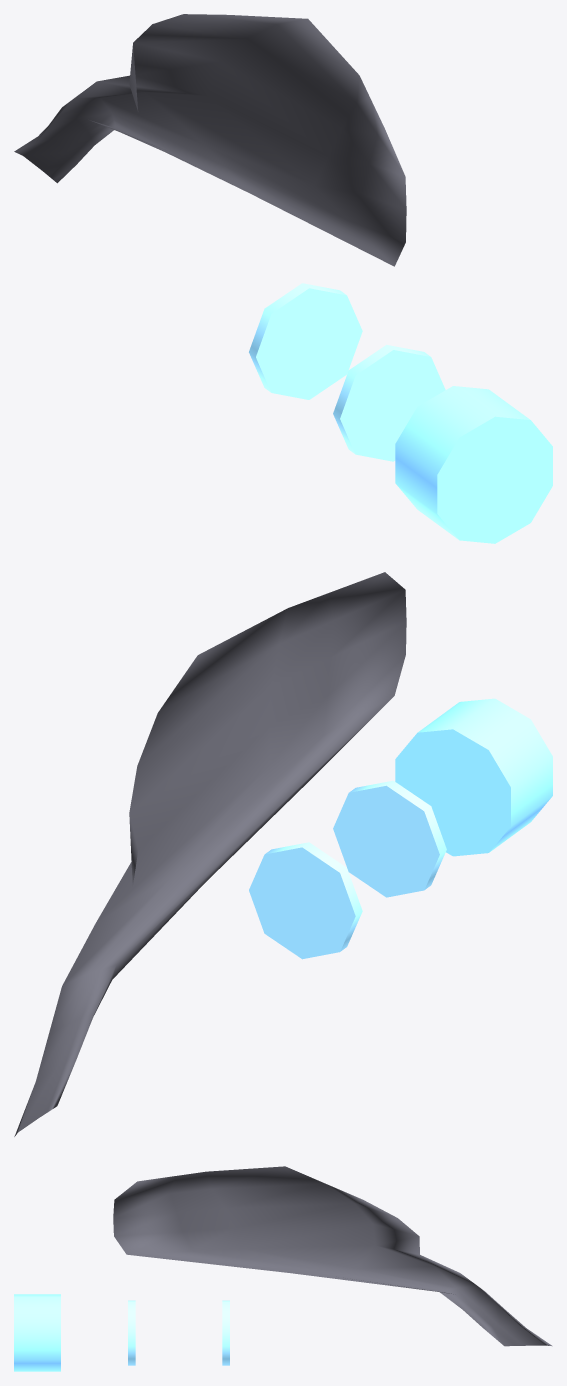
The model's file is weapon_atomizer.glb.
3 renders of one model, top to bottom at view 1: azimuth 30°, elevation 25°; view 2: azimuth 150°, elevation 25°; view 3: azimuth 270°, elevation 25°, orthographic. The views are drawn at different scales.
Visible parts, largest first — view 1: WeaponAtomizer, emitter_sphere, energy_coil_2, energy_coil_1; view 2: WeaponAtomizer, emitter_sphere, energy_coil_1, energy_coil_2; view 3: WeaponAtomizer, emitter_sphere, energy_coil_1, energy_coil_2.
Part boxes in pixels (bbox=[...]): WeaponAtomizer: bbox=[14, 14, 406, 266]; emitter_sphere: bbox=[395, 386, 552, 543]; energy_coil_2: bbox=[249, 283, 362, 399]; energy_coil_1: bbox=[333, 344, 445, 461]; WeaponAtomizer: bbox=[14, 572, 406, 1136]; emitter_sphere: bbox=[395, 698, 552, 856]; energy_coil_1: bbox=[333, 780, 446, 897]; energy_coil_2: bbox=[249, 842, 362, 959]; WeaponAtomizer: bbox=[113, 1166, 552, 1346]; emitter_sphere: bbox=[14, 1294, 60, 1371]; energy_coil_1: bbox=[128, 1300, 135, 1365]; energy_coil_2: bbox=[222, 1300, 229, 1365].
Size of the model in its own units: 0.049 by 0.1314 by 0.3429.
